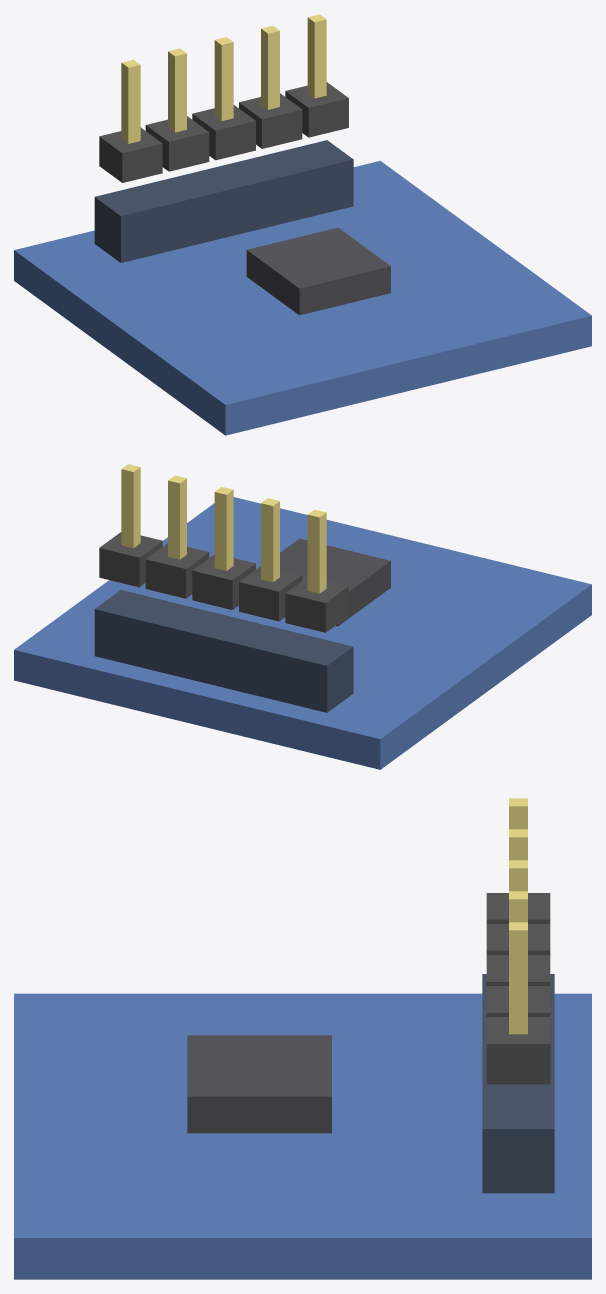
Rendered from gps-neo6m.glb.
3 renders of one model, top to bottom at view 1: azimuth 30°, elevation 25°; view 2: azimuth 150°, elevation 25°; view 3: azimuth 270°, elevation 25°, orthographic. The views are drawn at different scales.
Visible parts, largest first — view 1: gps-neo6m-module_mesh; view 2: gps-neo6m-module_mesh; view 3: gps-neo6m-module_mesh.
Boxes of the visible parts, left/top/right/bottom form: gps-neo6m-module_mesh: left=14, top=14, right=591, bottom=435; gps-neo6m-module_mesh: left=14, top=464, right=591, bottom=769; gps-neo6m-module_mesh: left=14, top=798, right=591, bottom=1279.
Bounding box in the file's own units: 20 × 11.2 × 20.
